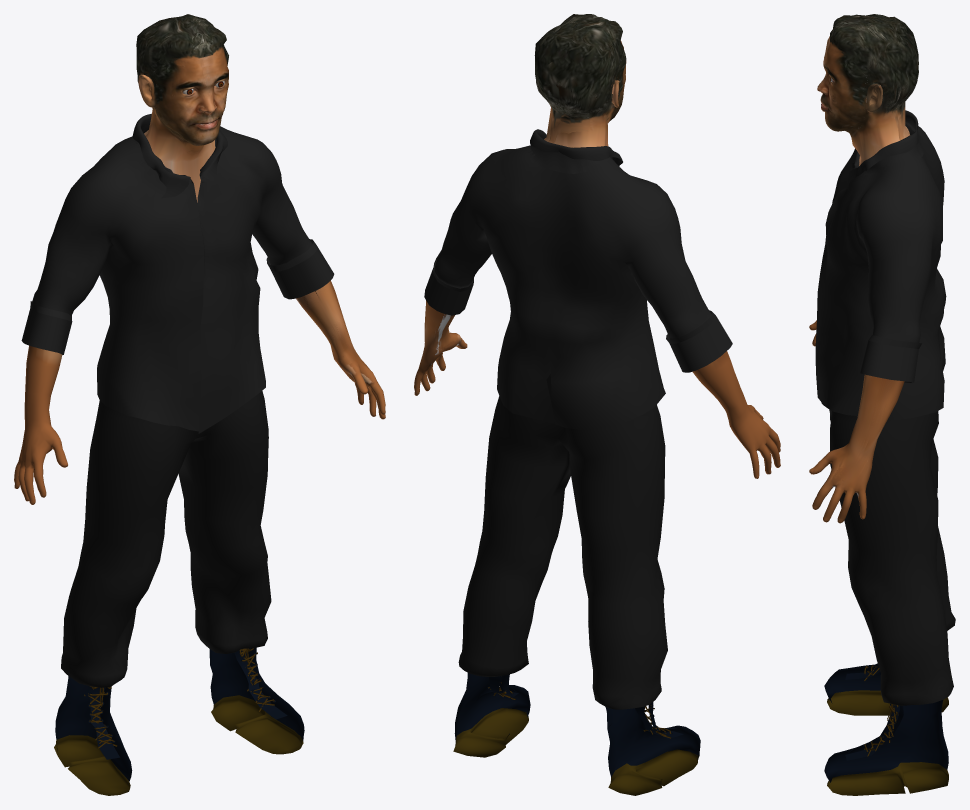
The model's file is morshd 6.glb.
3 renders of one model, left to right at view 1: azimuth 30°, elevation 25°; view 2: azimuth 150°, elevation 25°; view 3: azimuth 270°, elevation 25°, orthographic.
Visible parts, largest first — view 1: SHIRT.002, pants.001, charctr1.001; view 2: SHIRT.002, pants.001, charctr1.001; view 3: pants.001, SHIRT.002, charctr1.001.
Boxes of the visible parts, box(x1,y1,x2,y2) form: SHIRT.002: box(21, 113, 334, 433); pants.001: box(54, 391, 304, 795); charctr1.001: box(14, 14, 385, 504); SHIRT.002: box(424, 129, 732, 429); pants.001: box(453, 396, 700, 795); charctr1.001: box(414, 14, 780, 478); pants.001: box(824, 409, 955, 795); SHIRT.002: box(815, 110, 946, 419); charctr1.001: box(809, 14, 918, 523).
Size of the model in its own units: 7.85 by 15.54 by 2.83.
7 materials, 2 textured.
